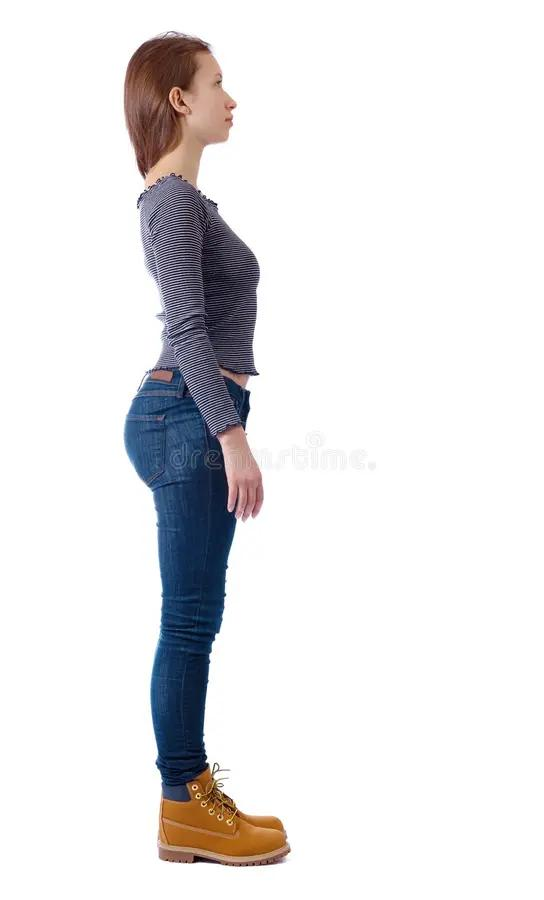long sleeve shirt: (136, 171, 259, 437)
trousers: (118, 361, 253, 781)
